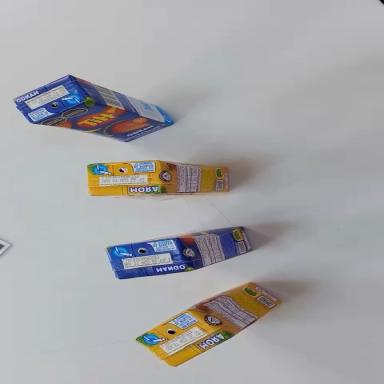HIT-MANGO: (10, 63, 179, 157), (106, 225, 254, 281)
HIT-MORA: (135, 269, 285, 377), (87, 156, 230, 199)
cara_F: (35, 87, 171, 161)
